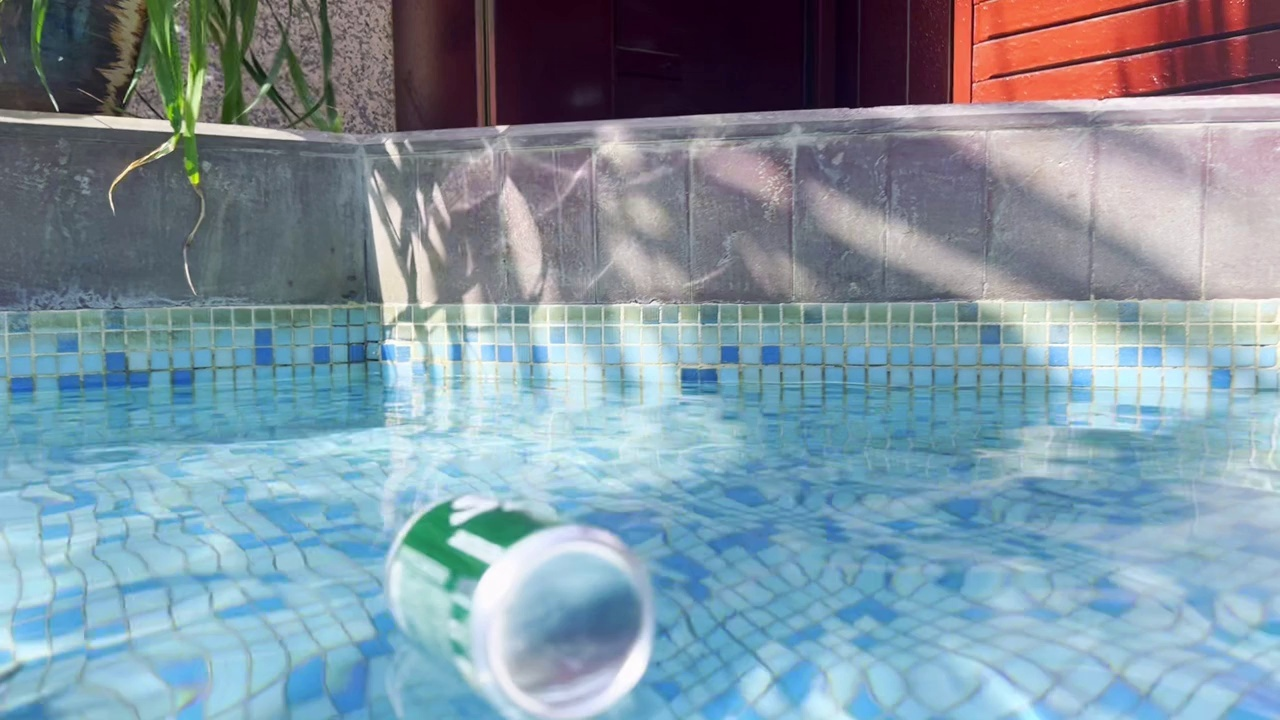debris: (369, 473, 665, 720)
